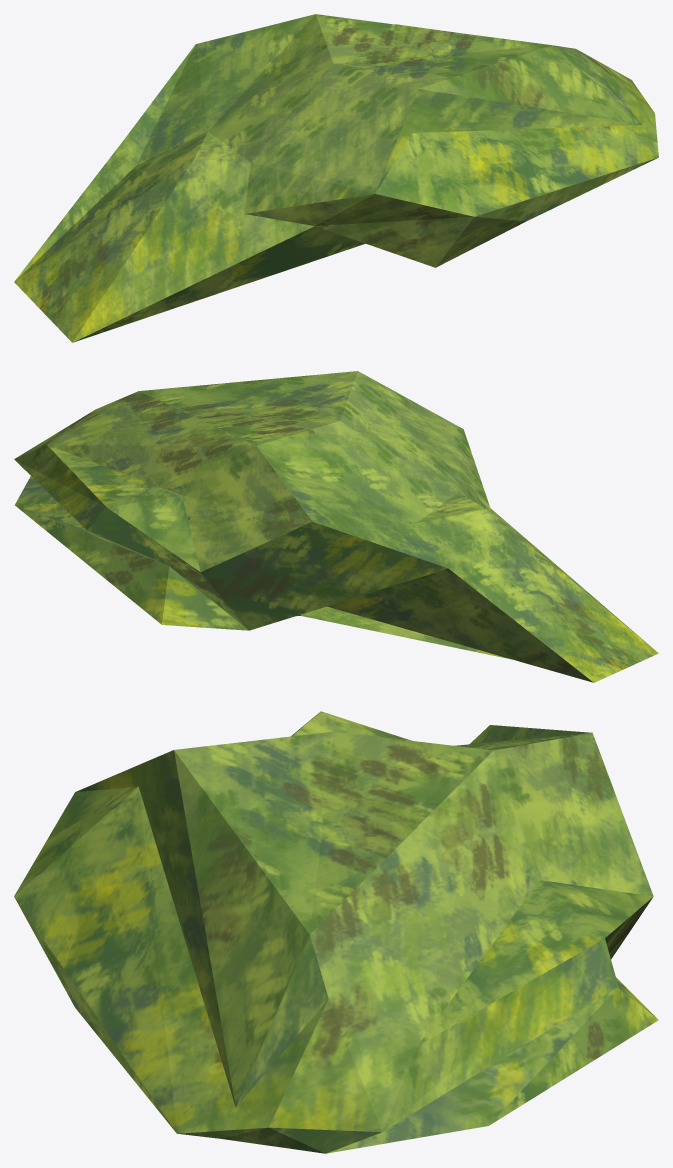
File: foliage8.glb
3 views of the same model, one above another, from view 1: azimuth 30°, elevation 25°; view 2: azimuth 150°, elevation 25°; view 3: azimuth 270°, elevation 25° (orthographic). The views are drawn at different scales.
Visible parts, largest first — view 1: foliage8; view 2: foliage8; view 3: foliage8.
Boxes of the visible parts, <box> form: foliage8: <box>14,14,658,342</box>; foliage8: <box>14,371,658,682</box>; foliage8: <box>14,711,658,1153</box>.
Bounding box in the file's own units: 22.31 × 7.06 × 13.21.
1 material, 1 textured.
